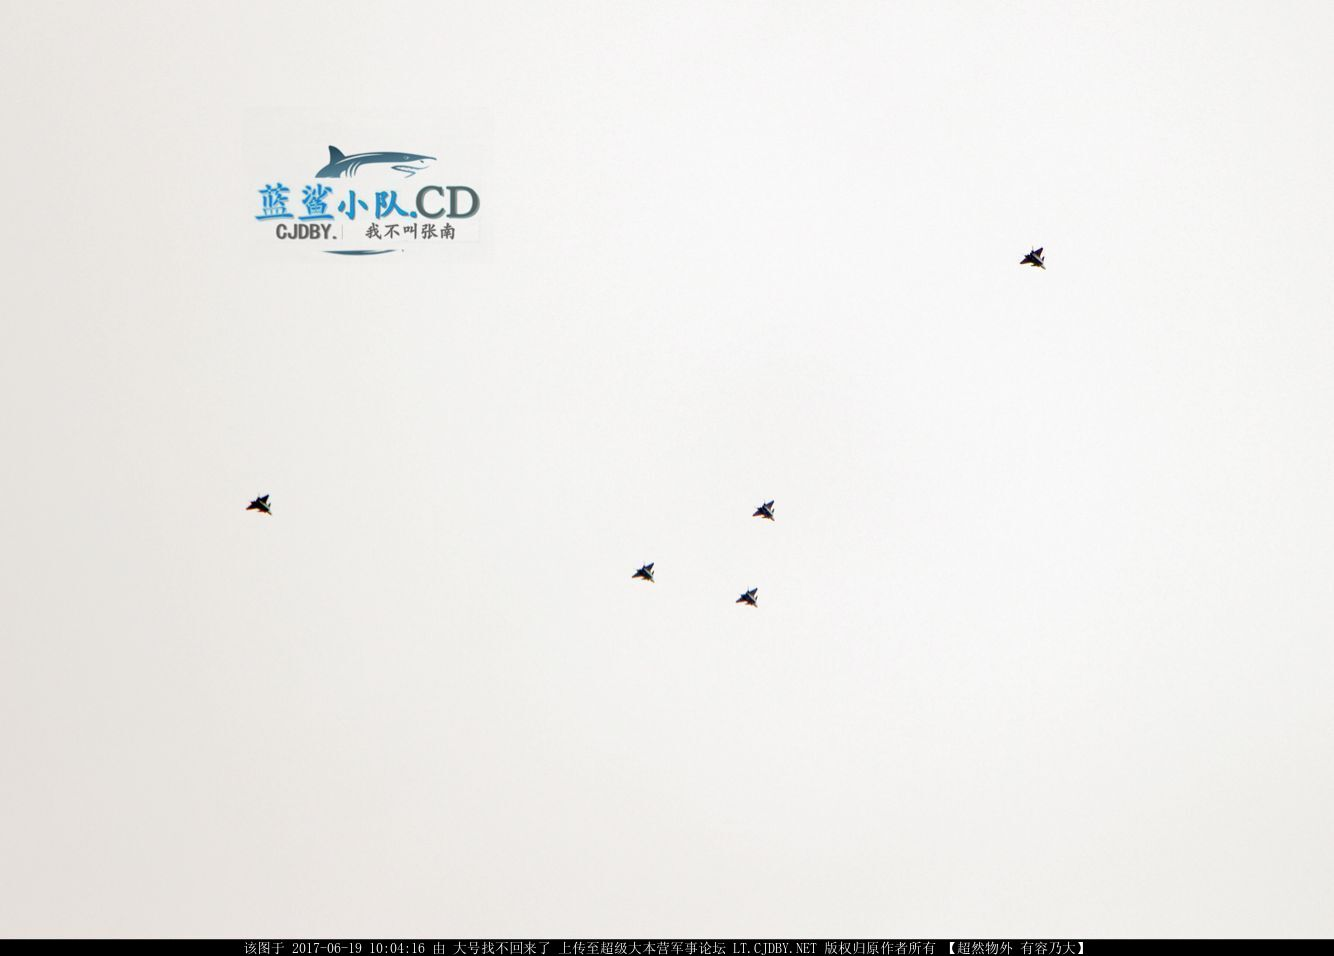J20: (1018, 245, 1047, 271), (245, 491, 273, 517), (751, 498, 776, 522), (734, 584, 759, 608), (631, 560, 656, 584)
